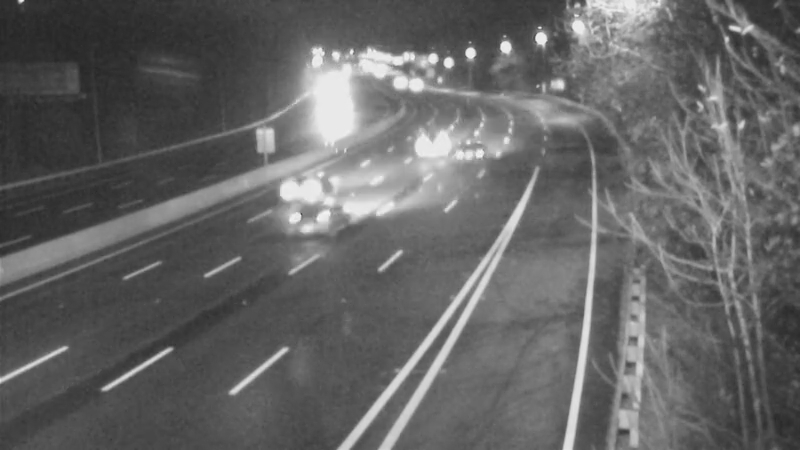vehicle: (432, 114, 512, 194), (264, 144, 344, 224), (274, 177, 354, 257), (372, 57, 422, 107), (393, 59, 443, 109), (410, 121, 460, 171)
